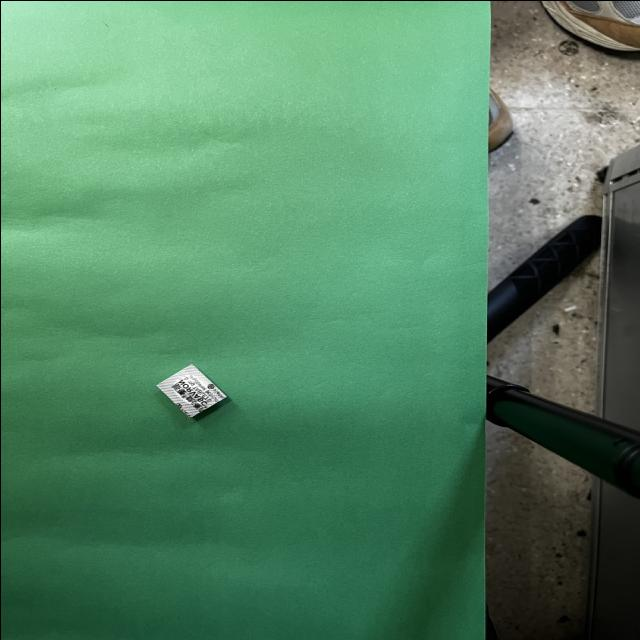Other Objects: (157, 364, 227, 417)
